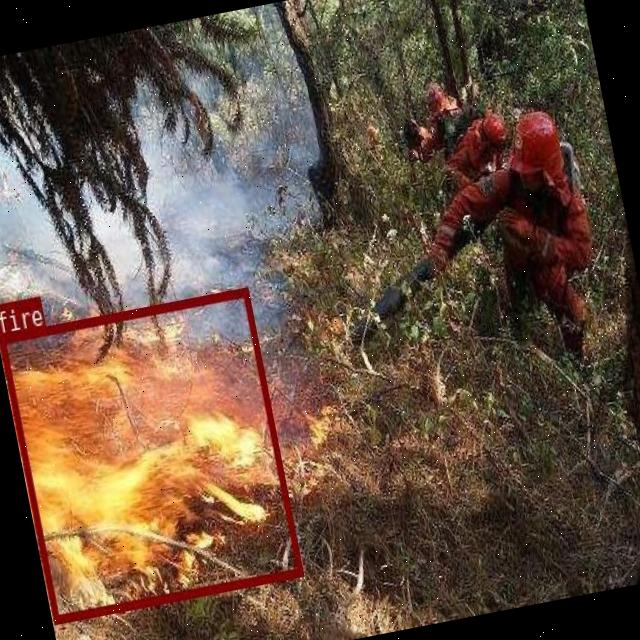fire: (0, 286, 302, 622)
